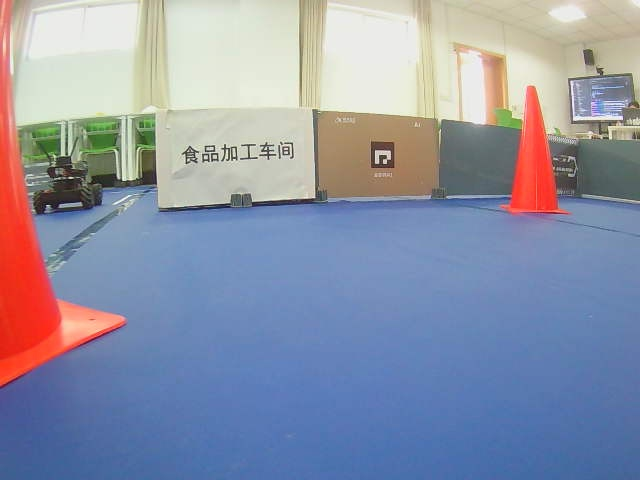target: (180, 141, 296, 167)
